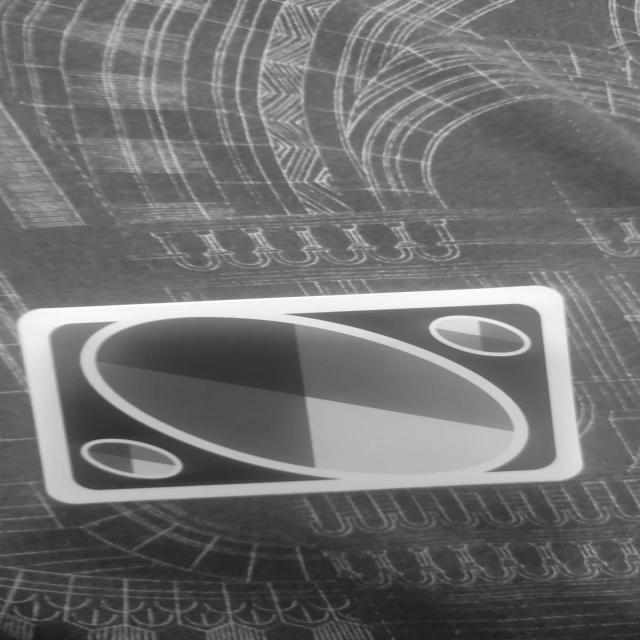wild_card: (15, 284, 584, 504)
